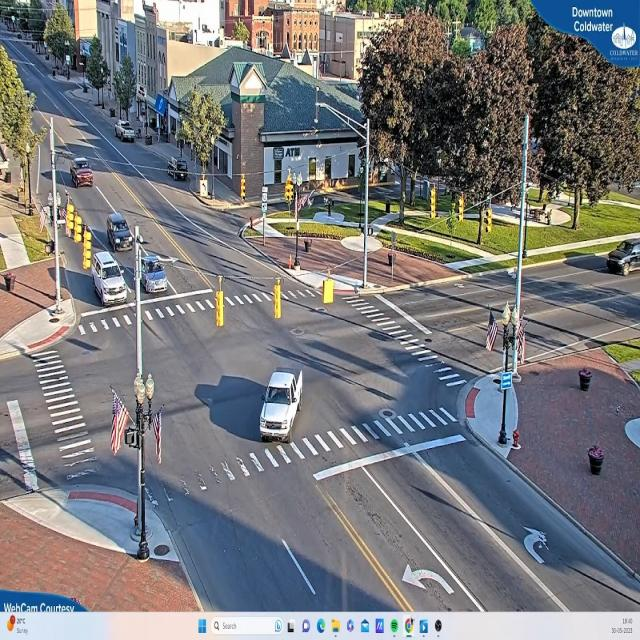car: (261, 368, 304, 440), (91, 250, 128, 304), (108, 215, 135, 251), (71, 159, 95, 188), (164, 157, 190, 180), (116, 123, 136, 143)
